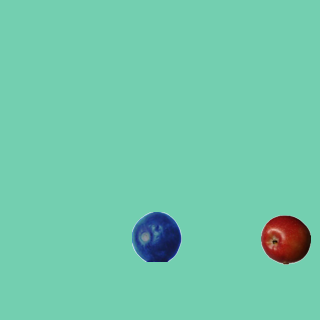Apple Braeburn: (260, 214, 310, 264)
Huckleberry: (131, 211, 181, 261)
